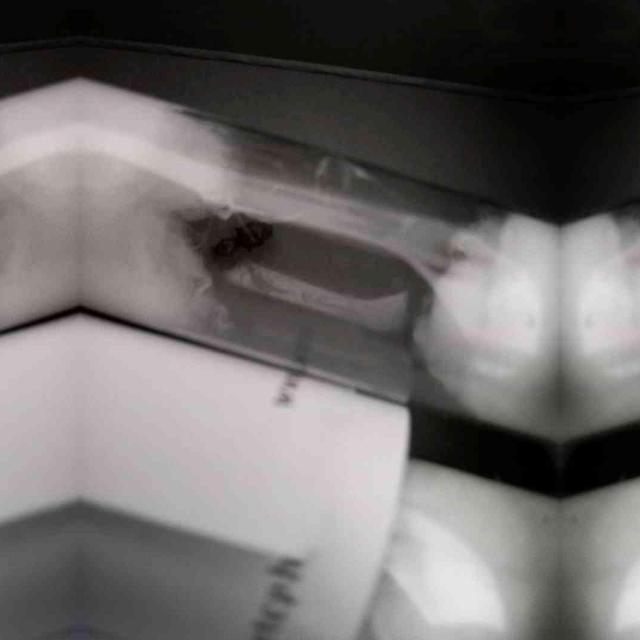Lasius: (195, 200, 281, 280)
